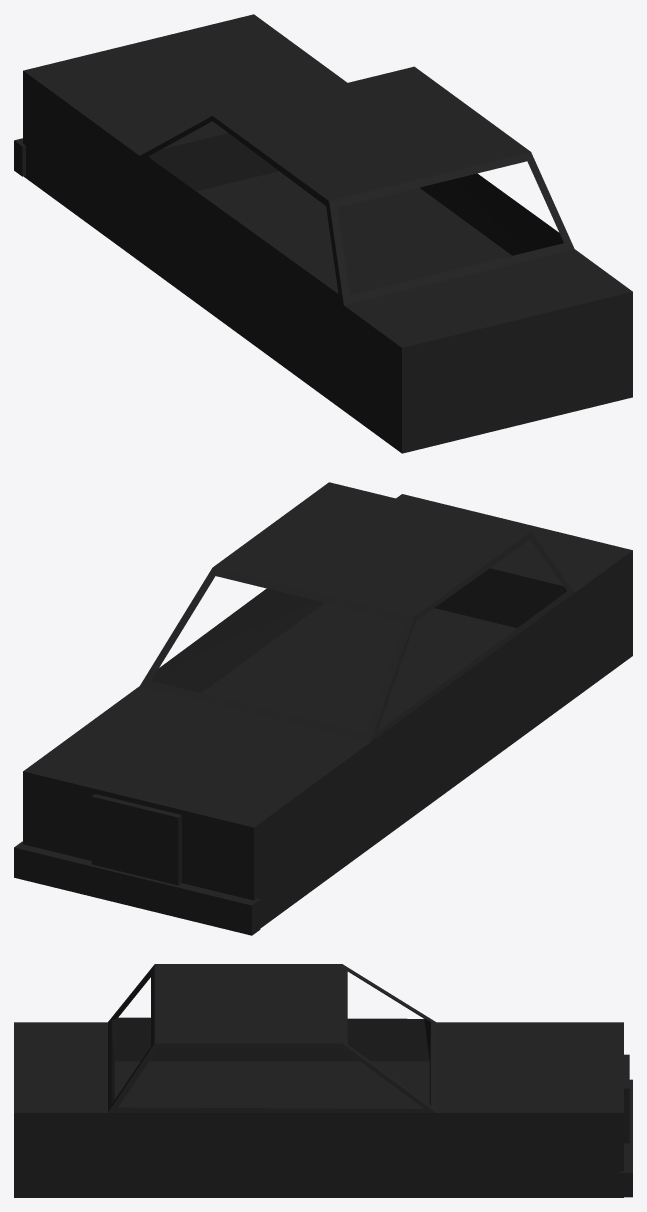
Rendered from towncar2.glb.
3 views of the same model, one above another, from view 1: azimuth 30°, elevation 25°; view 2: azimuth 150°, elevation 25°; view 3: azimuth 270°, elevation 25° (orthographic). The views are drawn at different scales.
Visible parts, largest first — view 1: vehicles/towncar2; view 2: vehicles/towncar2; view 3: vehicles/towncar2.
Part boxes in pixels (bbox=[...]): vehicles/towncar2: bbox=[14, 14, 632, 453]; vehicles/towncar2: bbox=[14, 482, 632, 935]; vehicles/towncar2: bbox=[14, 964, 632, 1197].
Bounding box in the file's own units: 2.06 × 1.53 × 5.77.
2 materials, 2 textured.
